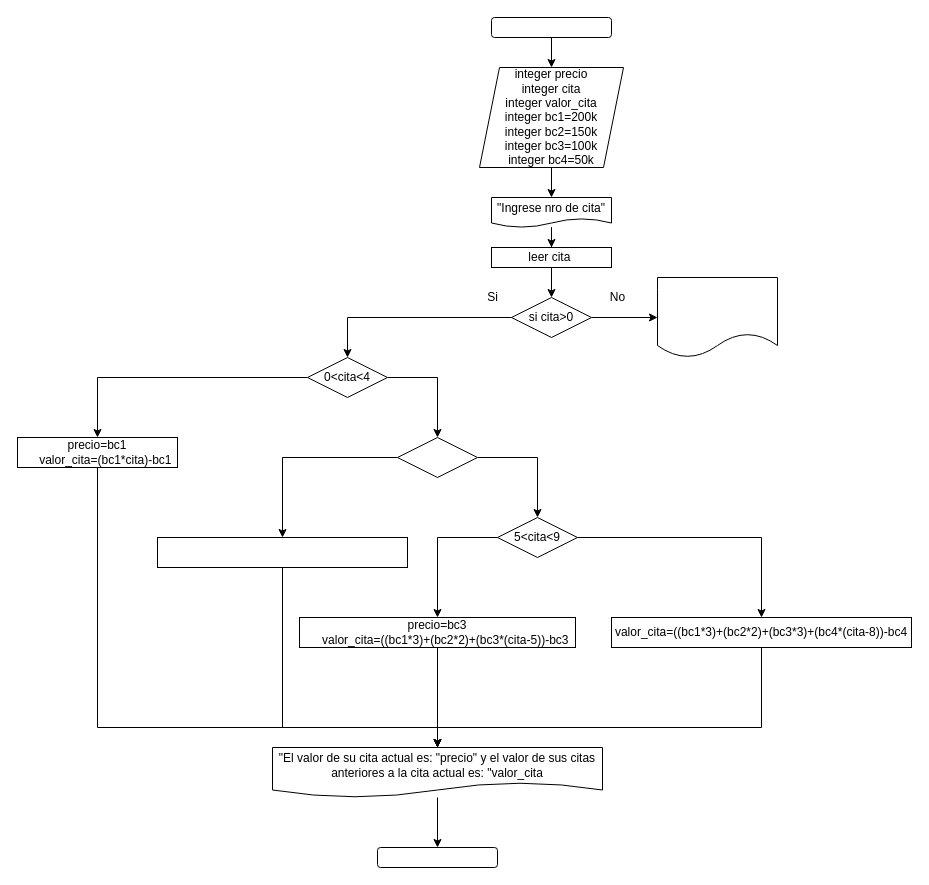
Image size: 929x885. Some labels were removed from this diagram. Here are the shapes that lost their labels. From the top down, the box of each, then its label:
(490, 16, 612, 38): Inicio
(656, 276, 778, 358): "La cantidad de citas ingresadas debe ser superior a 0"
(396, 436, 478, 478): 3<cita<6
(156, 536, 408, 568): precio=bc2 valor_cita=((bc1*3)+(bc2*(cita-3))-bc2
(376, 846, 498, 868): Fin
